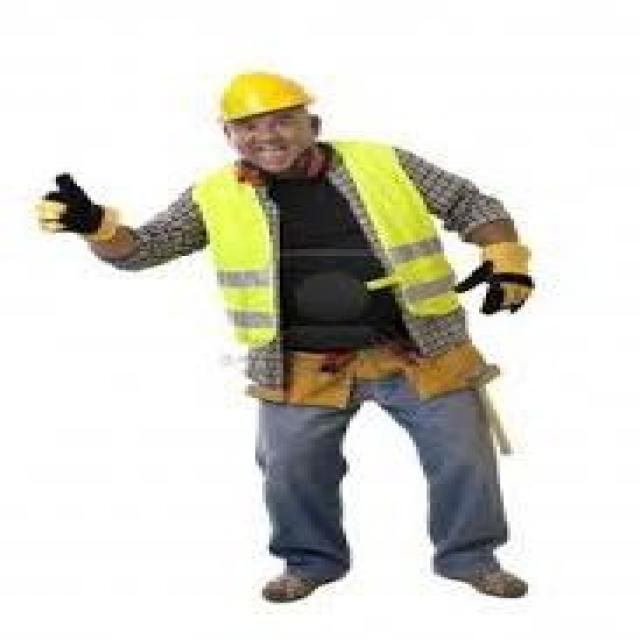Reflective-Jacket: (178, 142, 490, 372)
Safety-Helmet: (189, 56, 332, 135)
